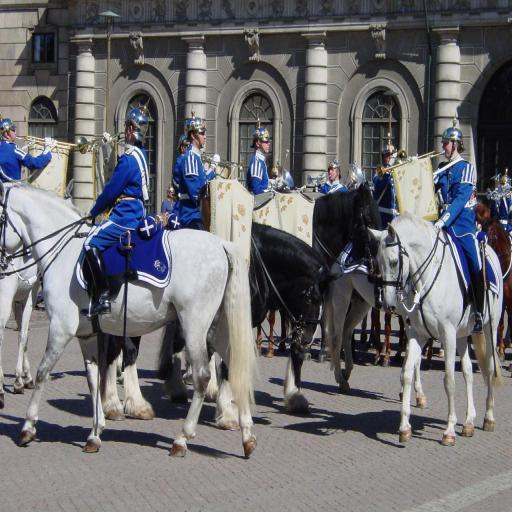horse: (0, 181, 512, 459)
